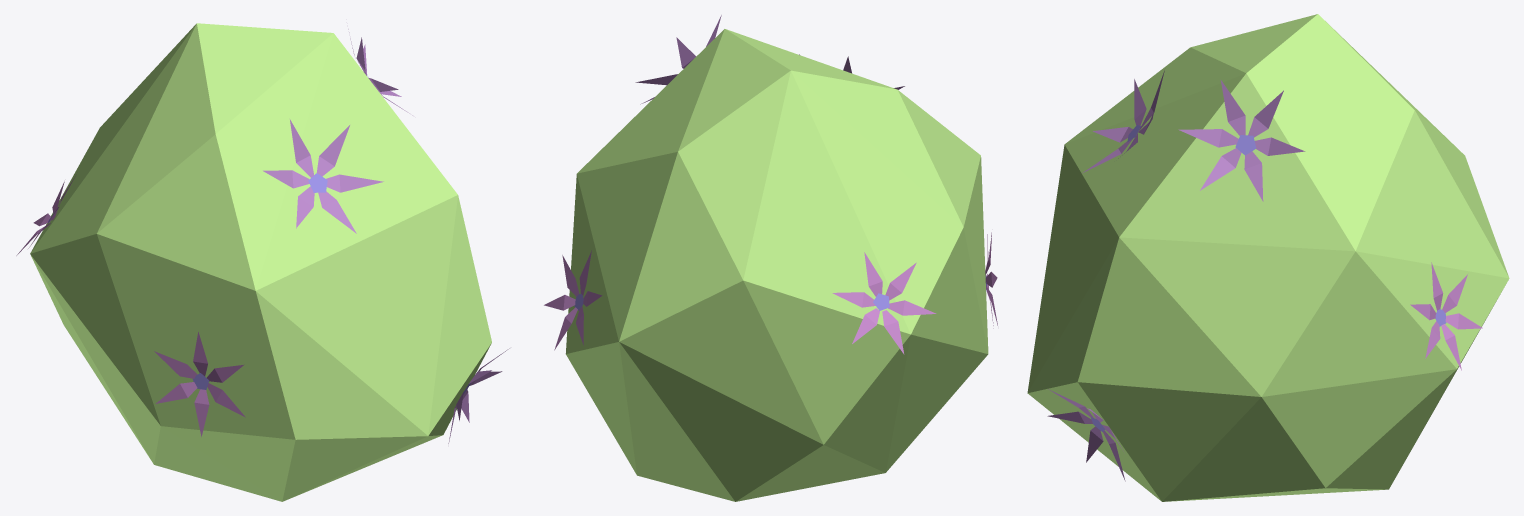
File: FlowerBush_g_m_03.fbx
The picture shows the model from 3 angles, left to right: view 1: azimuth 30°, elevation 25°; view 2: azimuth 150°, elevation 25°; view 3: azimuth 270°, elevation 25°; orthographic projection.
Parts seen in each view (by area): view 1: FlowerBush_g_m_03; view 2: FlowerBush_g_m_03; view 3: FlowerBush_g_m_03.
Boxes of the visible parts, box(x1,y1,x2,y2) form: FlowerBush_g_m_03: box(16, 23, 509, 501); FlowerBush_g_m_03: box(544, 15, 997, 501); FlowerBush_g_m_03: box(1027, 14, 1509, 501).
Size of the model in its own units: 132 by 143 by 136.
